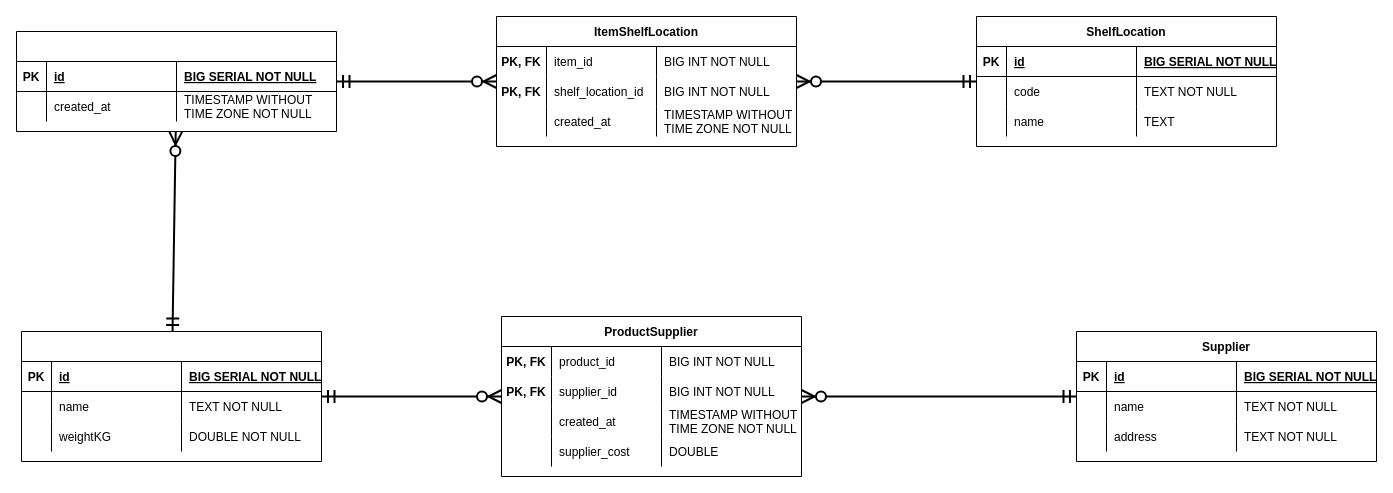
Some shapes in this 1393 by 493 pixel diagram are drawn without their labels. Here are the shapes that lost their labels. From the top down, the box of each, then its label:
(16, 30, 336, 132): Item
(20, 330, 322, 462): Product
